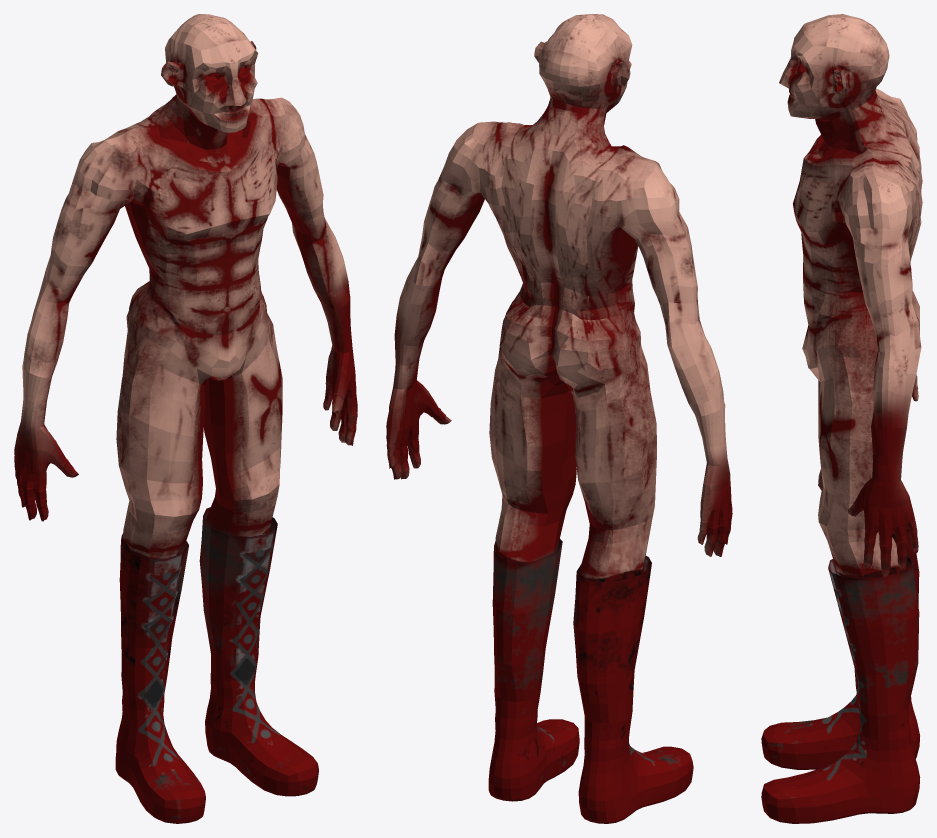
Rendered from LowPoly.fbx.
The picture shows the model from 3 angles, left to right: view 1: azimuth 30°, elevation 25°; view 2: azimuth 150°, elevation 25°; view 3: azimuth 270°, elevation 25°; orthographic projection.
Parts seen in each view (by area): view 1: PyramidHead001; view 2: PyramidHead001; view 3: PyramidHead001.
Part boxes in pixels (box(x1,y1,x2,y2)): PyramidHead001: box(14, 14, 357, 823); PyramidHead001: box(386, 14, 732, 823); PyramidHead001: box(761, 14, 922, 823).
Bounding box in the file's own units: 1752 × 3869 × 734.
